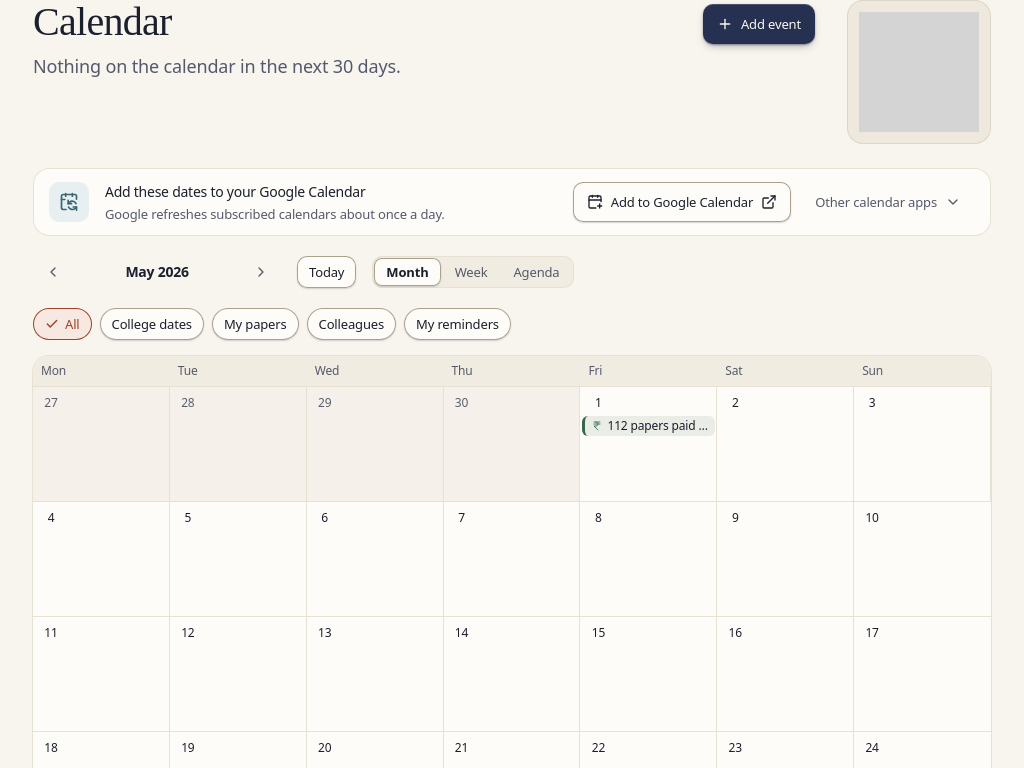
Scenario: Calendar › shows finance the month's total, and the event offers Add to Google Calendar
Click the button "112 papers paid for" at (649, 426), box x1=582 y1=416 x2=715 y2=436
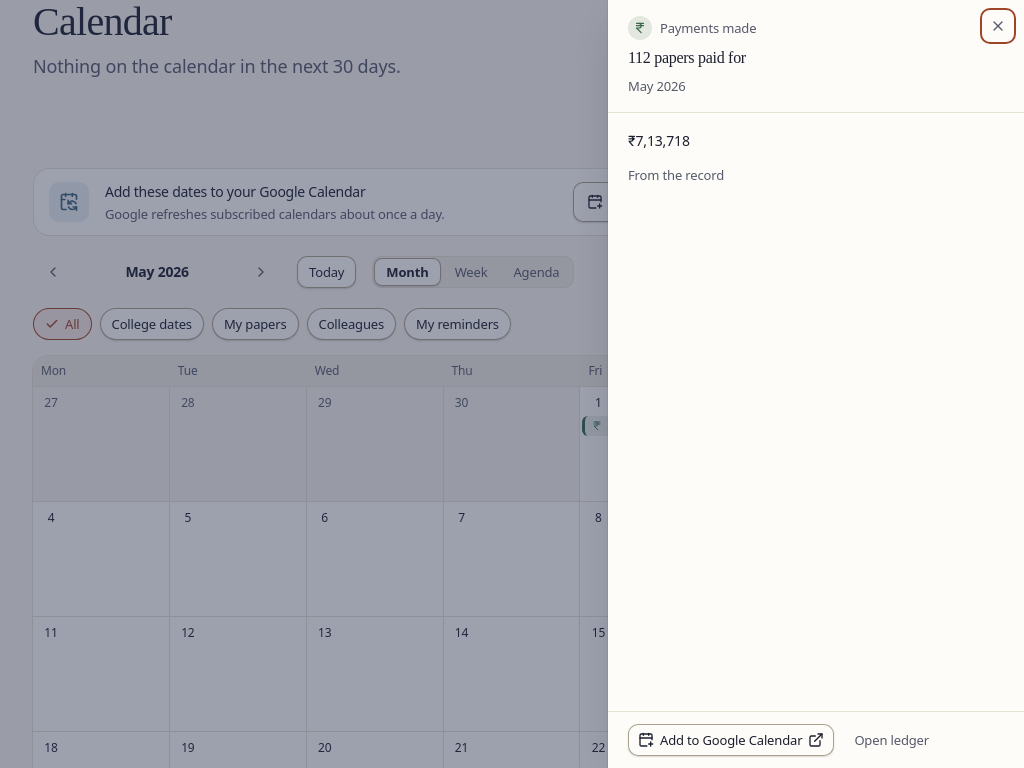
Result: the text "₹7,13,718" is shown at x1=628 y1=131 x2=690 y2=150
